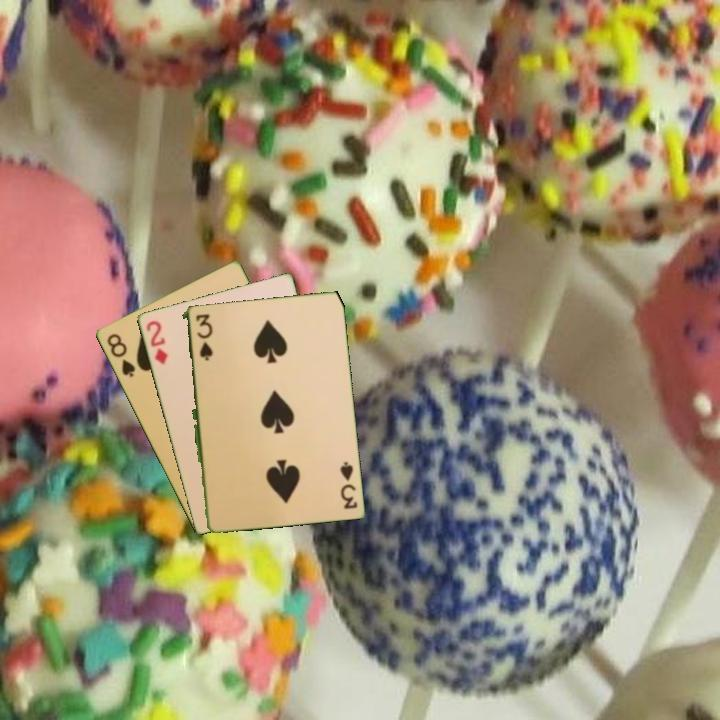2d: (142, 317, 170, 367)
3s: (336, 458, 360, 512), (192, 310, 212, 363)
8s: (103, 330, 138, 380)
